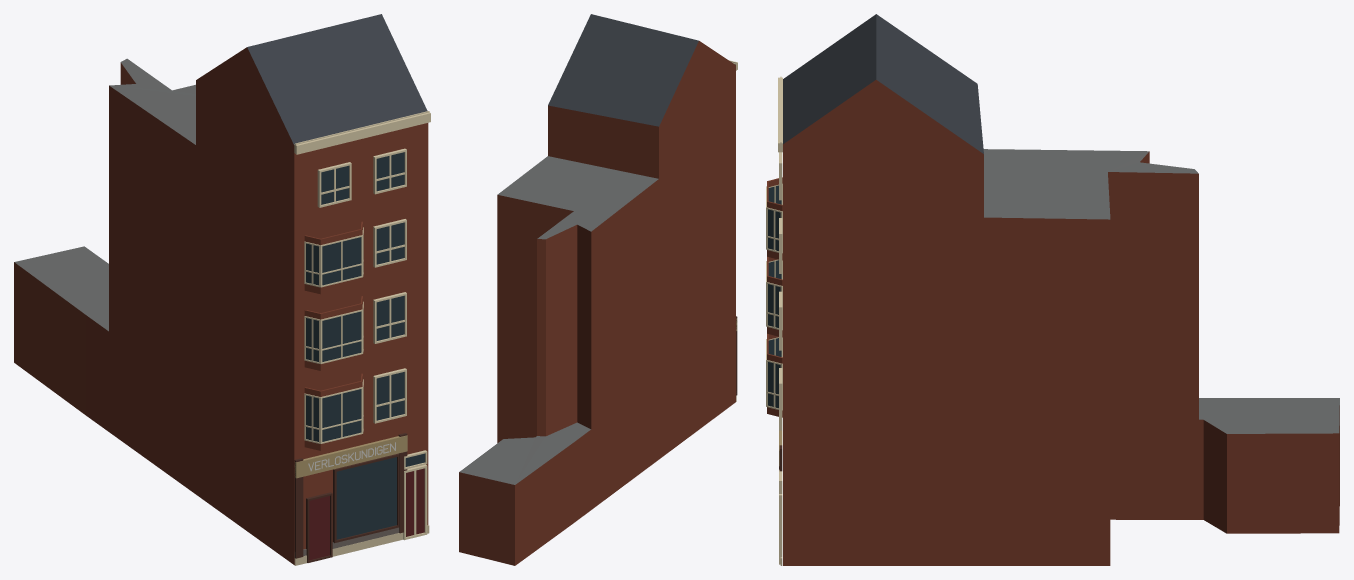
Rendered from recipe-bilder-080336.glb.
The picture shows the model from 3 angles, left to right: view 1: azimuth 30°, elevation 25°; view 2: azimuth 150°, elevation 25°; view 3: azimuth 270°, elevation 25°; orthographic projection. The views are drawn at different scales.
Parts seen in each view (by area): view 1: bilder-080336; view 2: bilder-080336; view 3: bilder-080336.
Part boxes in pixels (box(x1,y1,x2,y2)): bilder-080336: box(14, 14, 430, 565); bilder-080336: box(459, 14, 737, 565); bilder-080336: box(766, 14, 1339, 565).
Bounding box in the file's own units: 5.62 × 18.98 × 20.3.
